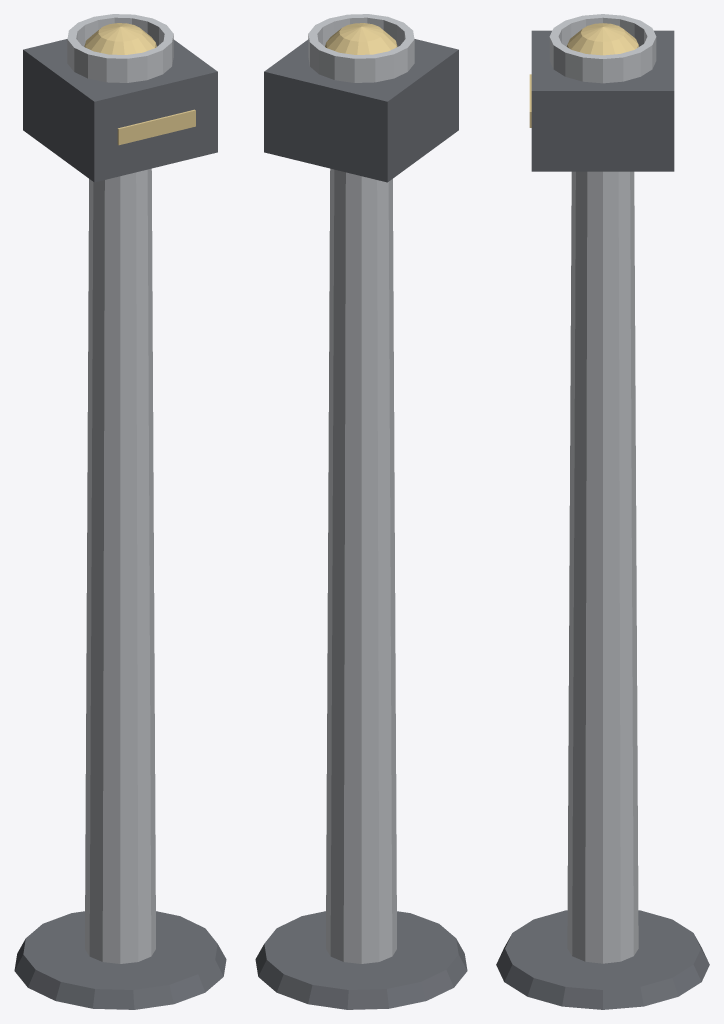
The model's file is bank-vault-heist-kit-panic-button-post-d4ee67f0__25081.glb.
3 views of the same model, side by side, from view 1: azimuth 30°, elevation 25°; view 2: azimuth 150°, elevation 25°; view 3: azimuth 270°, elevation 25° (orthographic).
Visible parts, largest first — view 1: panic-button-post; view 2: panic-button-post; view 3: panic-button-post.
Part boxes in pixels (<box>): panic-button-post: <box>14,14,226,1009</box>; panic-button-post: <box>255,14,467,1009</box>; panic-button-post: <box>496,14,709,1009</box>.
Bounding box in the file's own units: 0.2399 × 1.16 × 0.2399.
